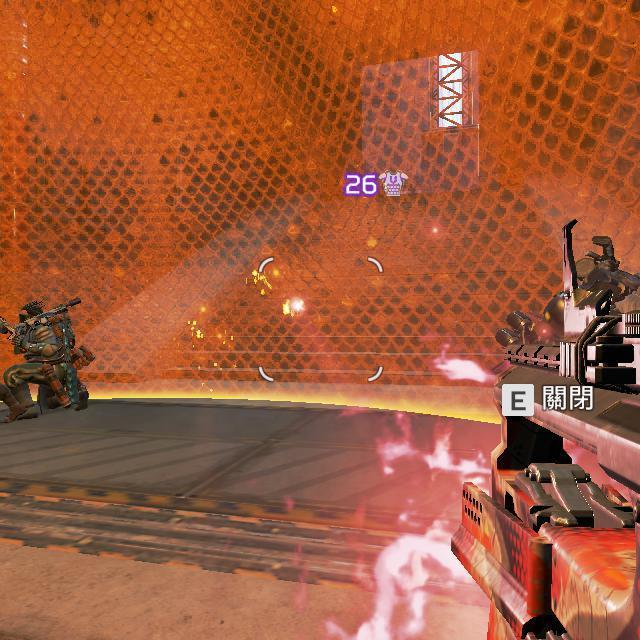avatar: (0, 295, 100, 427)
